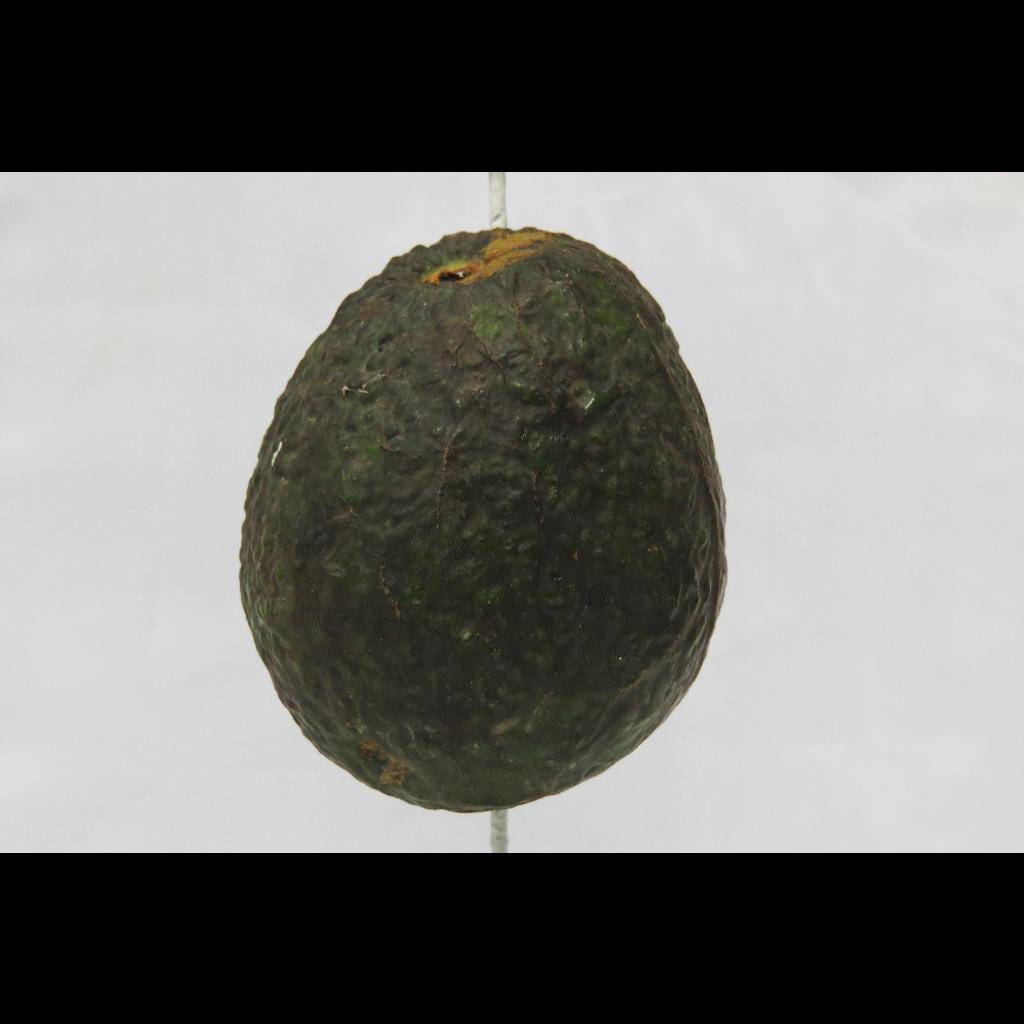fruto_sano: (153, 212, 779, 833)
